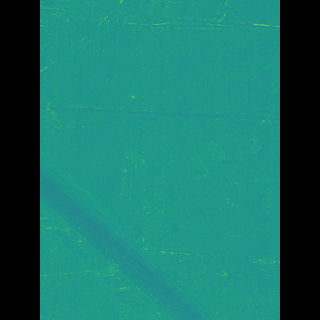Loch: (70, 150, 207, 320), (223, 0, 249, 302), (68, 94, 250, 134)
